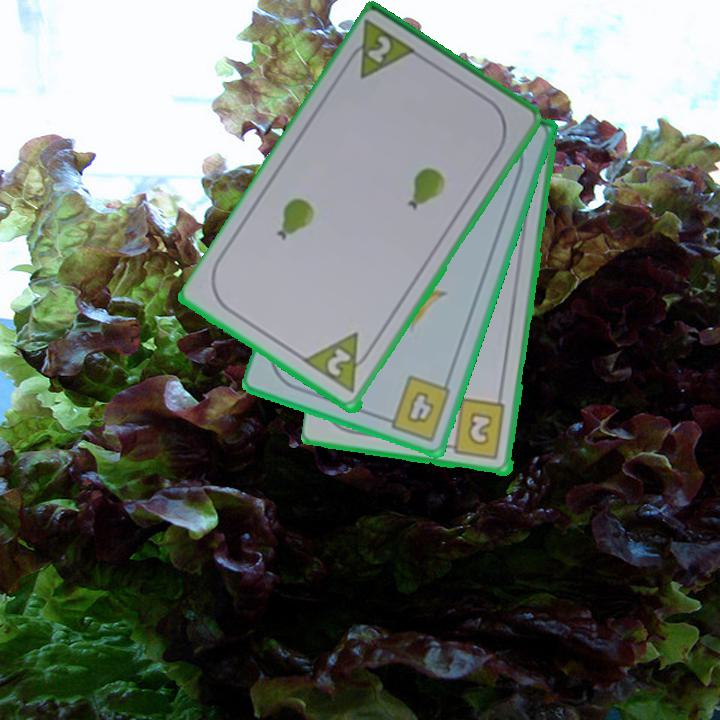2b: (441, 396, 509, 463)
2p: (340, 18, 422, 83), (302, 329, 379, 397)
4b: (378, 372, 454, 444)
